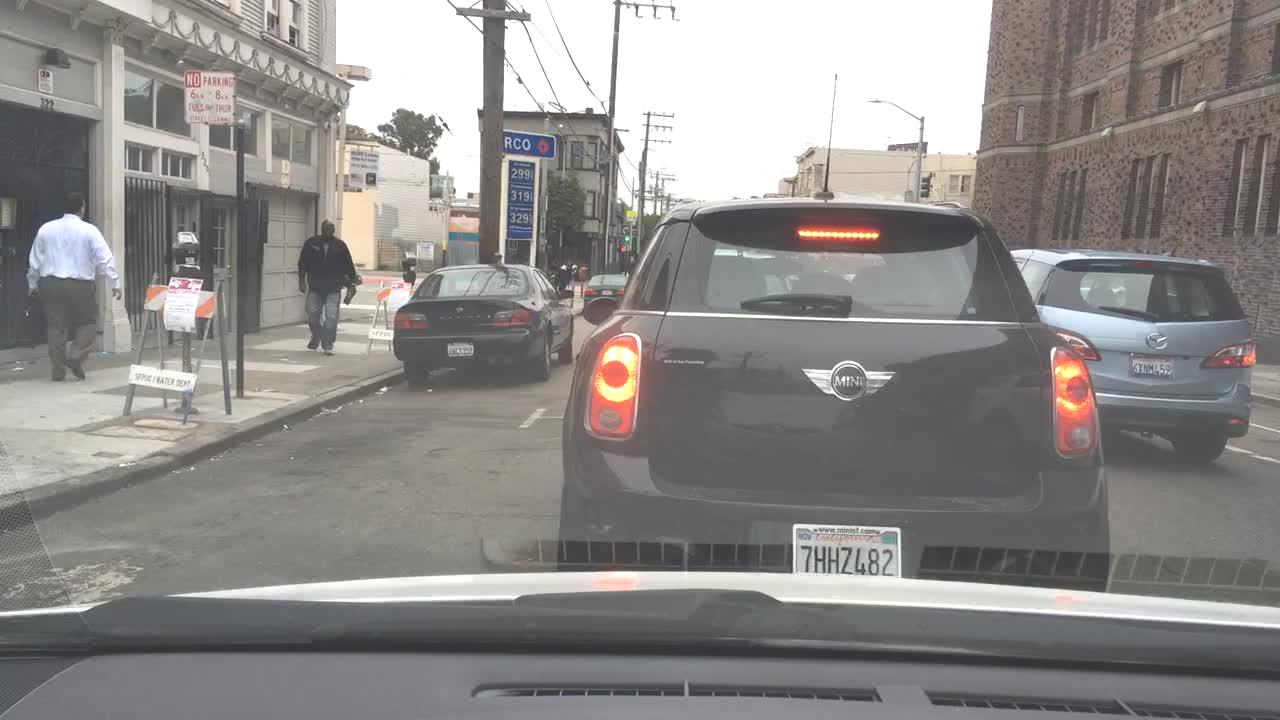Mazda: (1138, 324, 1173, 356)
mini: (795, 347, 905, 418)
